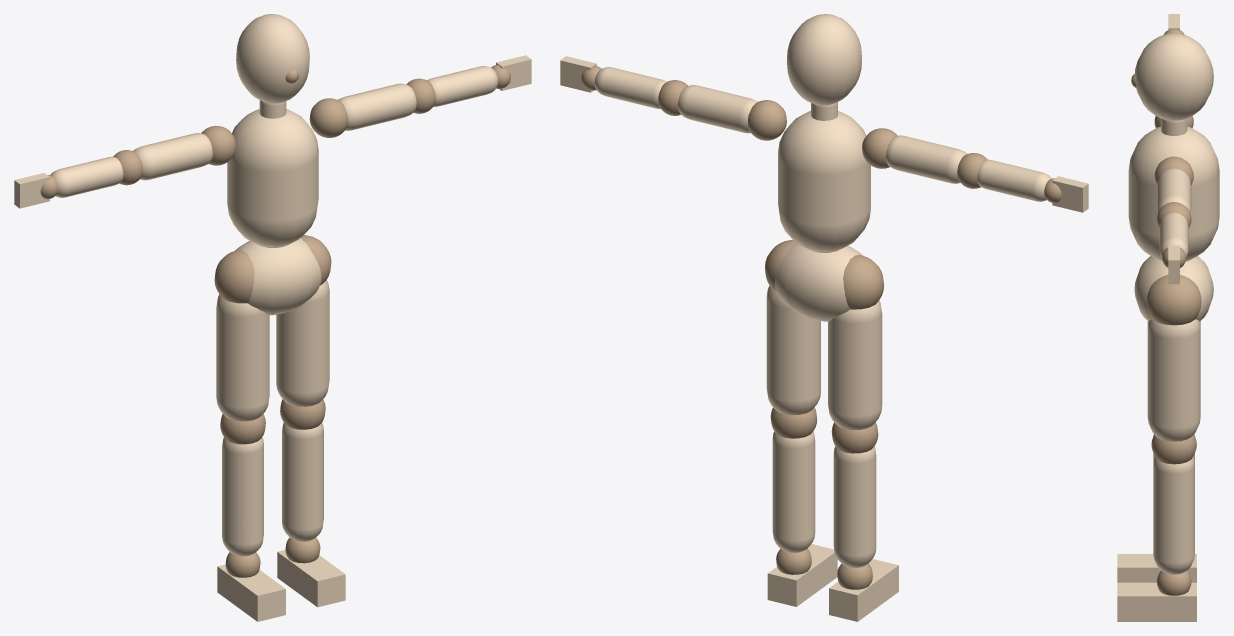
Rendered from mannequin.gltf.
3 views of the same model, side by side, from view 1: azimuth 30°, elevation 25°; view 2: azimuth 150°, elevation 25°; view 3: azimuth 270°, elevation 25° (orthographic). The views are drawn at different scales.
Visible parts, largest first — view 1: ChestMesh, ThighMeshR, ThighMeshL, HeadMesh, CalfMeshL, CalfMeshR, PelvisMesh, FootMeshR, FootMeshL, UpperArmMeshR, UpperArmMeshL, ForearmMeshR (+11 smaller); view 2: ChestMesh, ThighMeshR, ThighMeshL, HeadMesh, CalfMeshR, CalfMeshL, PelvisMesh, UpperArmMeshR, UpperArmMeshL, FootMeshL, FootMeshR, ForearmMeshR (+12 smaller); view 3: ChestMesh, ThighMeshL, HeadMesh, CalfMeshL, FootMeshL, BallHipL, PelvisMesh, FootMeshR, UpperArmMeshL, ForearmMeshL, BallKneeL, BallAnkleL (+6 smaller).
Part boxes in pixels (bbox=[...]): ChestMesh: bbox=[227, 109, 318, 247]; ThighMeshR: bbox=[216, 294, 269, 421]; ThighMeshL: bbox=[276, 280, 329, 406]; HeadMesh: bbox=[236, 14, 309, 103]; CalfMeshL: bbox=[282, 422, 323, 541]; CalfMeshR: bbox=[222, 437, 263, 556]; PelvisMesh: bbox=[235, 238, 321, 315]; FootMeshR: bbox=[217, 564, 285, 621]; FootMeshL: bbox=[277, 550, 345, 607]; UpperArmMeshR: bbox=[133, 133, 212, 180]; UpperArmMeshL: bbox=[338, 83, 416, 130]; ForearmMeshR: bbox=[50, 156, 123, 197]; ChestMesh: bbox=[778, 111, 870, 252]; ThighMeshR: bbox=[828, 300, 882, 429]; ThighMeshL: bbox=[766, 285, 820, 415]; HeadMesh: bbox=[787, 14, 861, 105]; CalfMeshR: bbox=[833, 446, 876, 567]; CalfMeshL: bbox=[772, 431, 815, 552]; PelvisMesh: bbox=[774, 242, 863, 321]; UpperArmMeshR: bbox=[885, 135, 966, 183]; UpperArmMeshL: bbox=[677, 85, 758, 133]; FootMeshL: bbox=[767, 544, 837, 606]; FootMeshR: bbox=[829, 559, 898, 621]; ForearmMeshR: bbox=[977, 159, 1051, 201]; ChestMesh: bbox=[1128, 126, 1219, 261]; ThighMeshL: bbox=[1147, 319, 1200, 441]; HeadMesh: bbox=[1134, 33, 1213, 120]; CalfMeshL: bbox=[1153, 457, 1194, 574]; FootMeshL: bbox=[1117, 582, 1196, 621]; BallHipL: bbox=[1146, 274, 1201, 325]; PelvisMesh: bbox=[1134, 256, 1213, 321]; FootMeshR: bbox=[1117, 554, 1196, 582]; UpperArmMeshL: bbox=[1157, 168, 1191, 213]; ForearmMeshL: bbox=[1159, 212, 1188, 257]; BallKneeL: bbox=[1151, 434, 1196, 464]; BallAnkleL: bbox=[1156, 570, 1191, 595].
Size of the model in its own units: 1.54 by 1.65 by 0.27.
